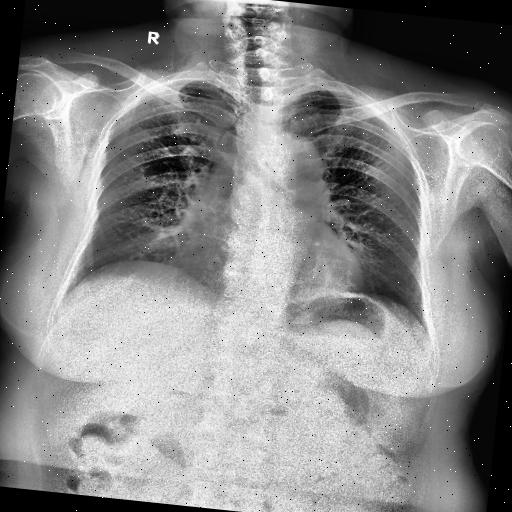0- Aortic enlargement: (252, 130, 324, 200), (264, 132, 330, 198), (268, 135, 328, 190)
3- Cardiomegaly: (172, 211, 370, 294), (174, 230, 369, 304)
